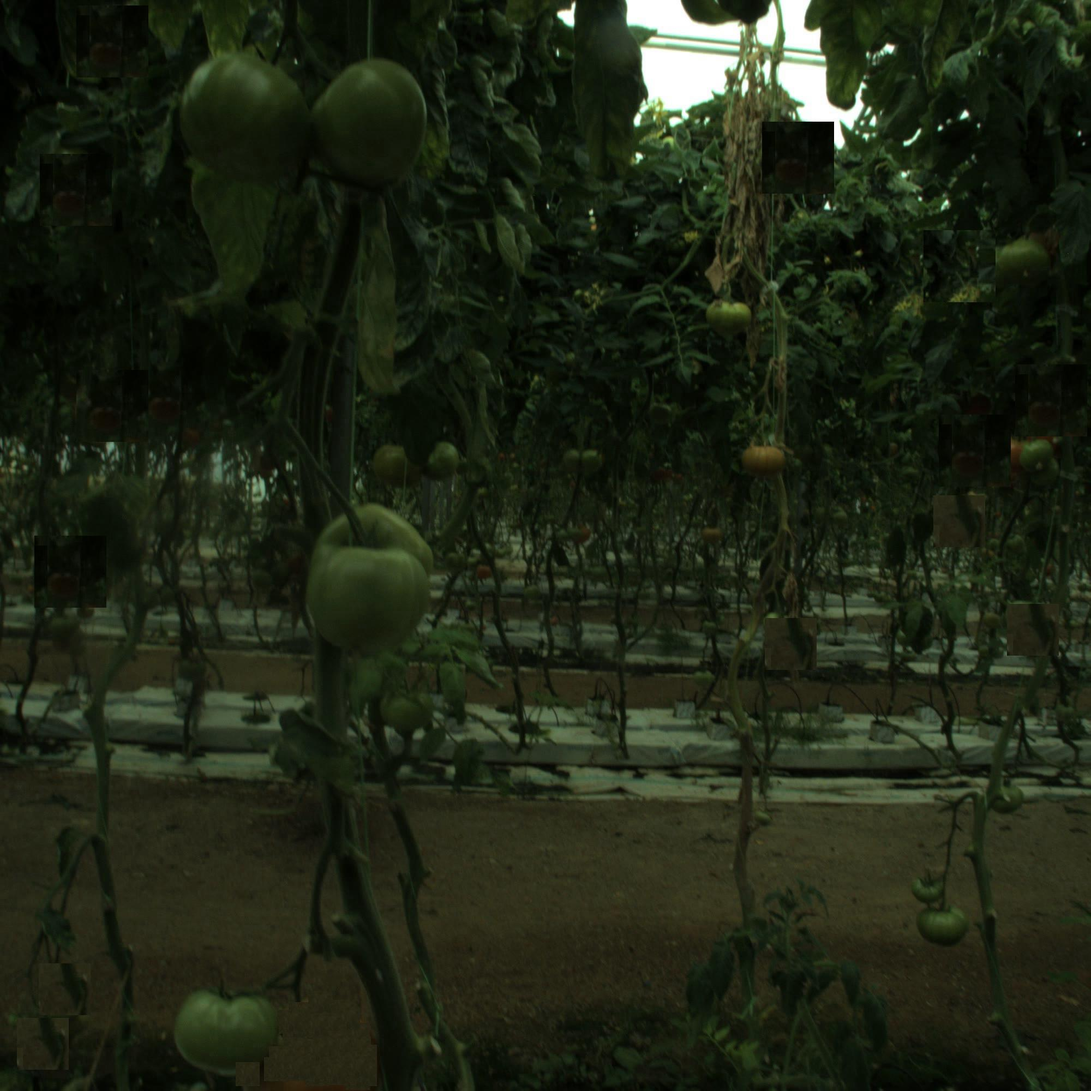semi-ripe: (739, 437, 784, 482)
unripe: (293, 503, 442, 653), (311, 61, 424, 173), (189, 53, 291, 156), (179, 980, 272, 1072), (999, 241, 1053, 295), (369, 442, 414, 487), (382, 687, 427, 732), (918, 902, 963, 947), (418, 441, 463, 485), (709, 297, 753, 341), (1018, 442, 1053, 477)
